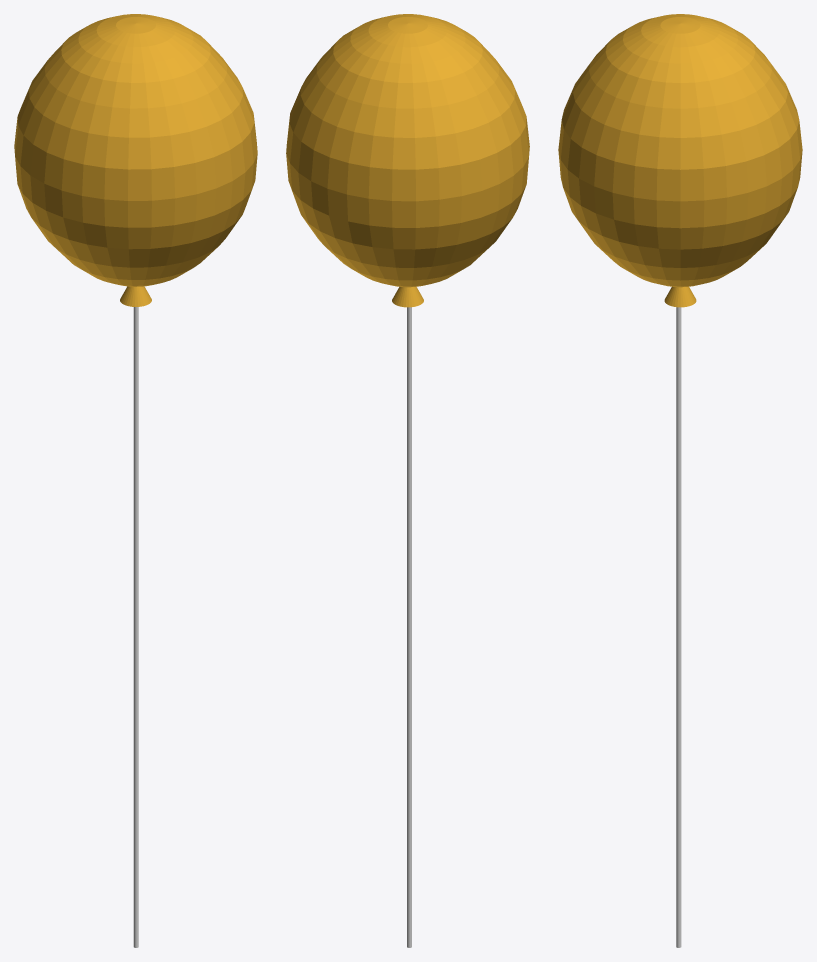
File: ballonOranje.dae
The picture shows the model from 3 angles, left to right: view 1: azimuth 30°, elevation 25°; view 2: azimuth 150°, elevation 25°; view 3: azimuth 270°, elevation 25°; orthographic projection.
Visible parts, largest first — view 1: Sphere, Cylinder, Cone; view 2: Sphere, Cylinder, Cone; view 3: Sphere, Cylinder, Cone.
Boxes of the visible parts, bbox=[...] form: Sphere: bbox=[14, 14, 257, 286]; Cylinder: bbox=[133, 307, 138, 947]; Cone: bbox=[120, 286, 151, 306]; Sphere: bbox=[286, 14, 529, 287]; Cylinder: bbox=[407, 307, 411, 947]; Cone: bbox=[392, 286, 423, 307]; Sphere: bbox=[558, 14, 802, 287]; Cylinder: bbox=[676, 307, 681, 947]; Cone: bbox=[664, 286, 696, 307].
Size of the model in its own units: 2 by 2 by 8.35.
